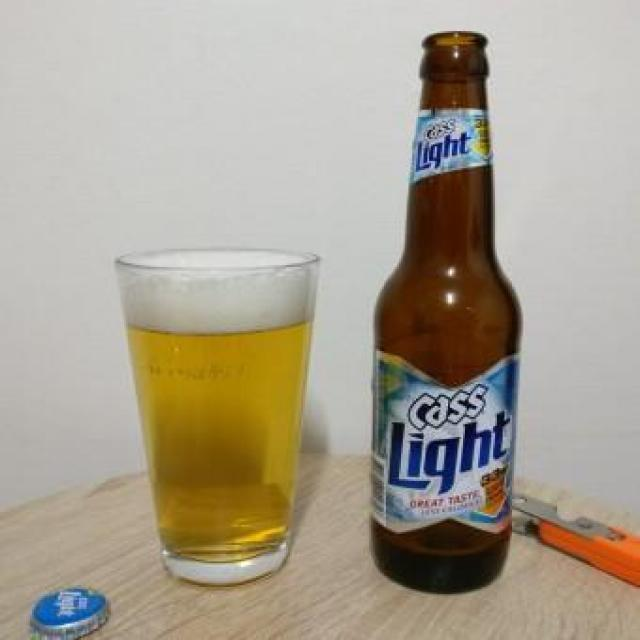beer-bottle: (372, 20, 530, 602)
